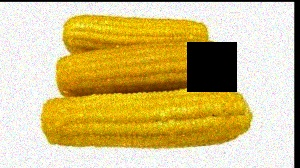corn: (37, 83, 254, 147), (56, 42, 228, 94), (62, 15, 209, 68)
